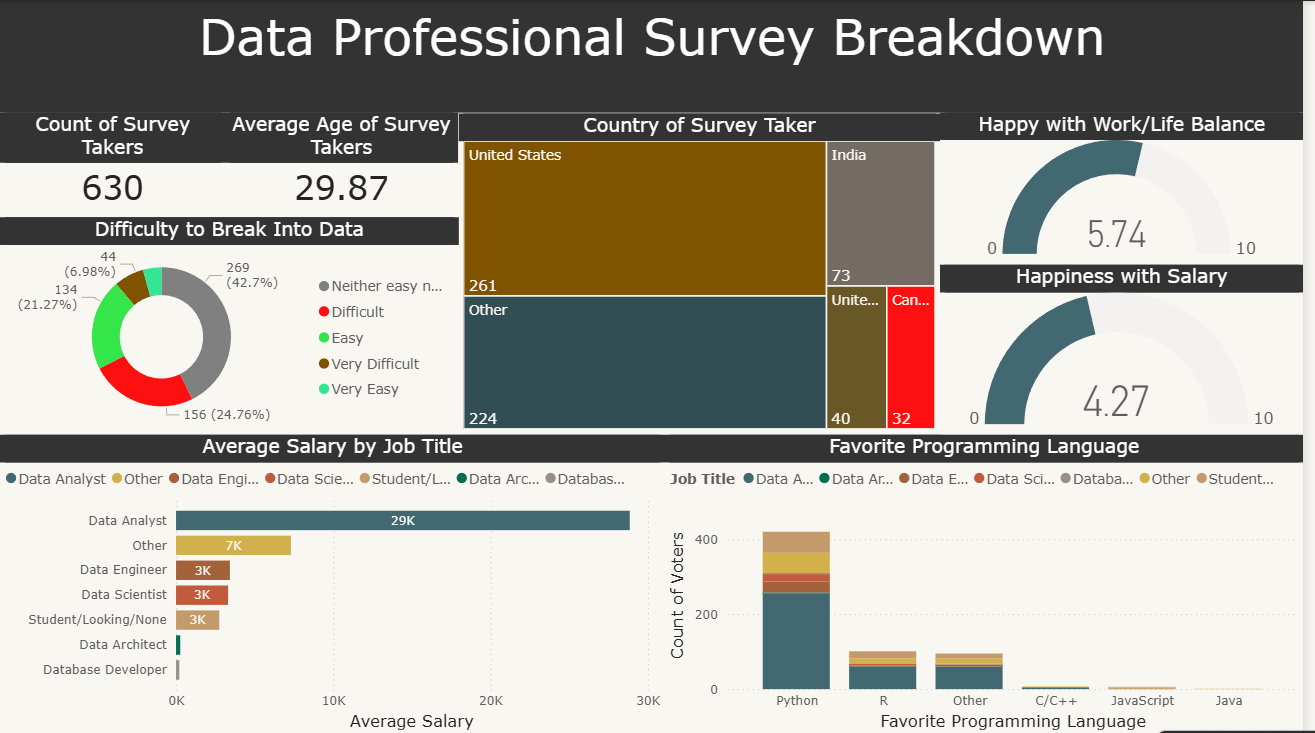

Layout of this report page (visuals, bound fields, positions):
{"tool":"powerbi","page":{"name":"Survey Dashboard","canvas":[1280,720],"ordinal":0},"visuals":[{"type":"textbox","box":[0,0,1280,109.5],"z":0},{"type":"card","title":"Count of Survey Takers","fields":{"Values":["CountNonNull(Data Professional Survey.Unique ID)"]},"box":[0,109.5,221.4,103.2],"z":1000},{"type":"card","title":"Average Age of Survey Takers","fields":{"Values":["Avg(Data Professional Survey.Q10 - Current Age)"]},"box":[221.4,109.5,228.9,103.2],"z":2000},{"type":"barChart","title":"Average Salary by Job Title","fields":{"Category":["Data Professional Survey.Q1 - Which Title Best Fits your Current Role?.1"],"Y":["Sum(Data Professional Survey.Average Salary)"],"Series":["Data Professional Survey.Q1 - Which Title Best Fits your Current Role?.1"]},"box":[0,425.4,653.1,294.8],"z":3000},{"type":"columnChart","title":"Favorite Programming Language","fields":{"Category":["Data Professional Survey.Q5 - Favorite Programming Language.1"],"Y":["CountNonNull(Data Professional Survey.Unique ID)"],"Series":["Data Professional Survey.Q1 - Which Title Best Fits your Current Role?.1"]},"box":[653.1,425.4,627,294.8],"z":4000},{"type":"treemap","title":"Country of Survey Taker","fields":{"Group":["Data Professional Survey.Q11 - Which Country do you live in?.1"],"Values":["CountNonNull(Data Professional Survey.Q11 - Which Country do you live in?.1)"]},"box":[450.3,110.7,472.7,314.7],"z":5000},{"type":"gauge","title":"Happy with Work/Life Balance","fields":{"Y":["Avg(Data Professional Survey.Q6 - How Happy are you in your Current Position with the following? (Work/Life Balance))"],"MinValue":["Min(Data Professional Survey.Q6 - How Happy are you in your Current Position with the following? (Work/Life Balance))1"],"MaxValue":["Max(Data Professional Survey.Q6 - How Happy are you in your Current Position with the following? (Work/Life Balance))2"]},"box":[923,109.5,357,149.3],"z":6000},{"type":"gauge","title":"Happiness with Salary","fields":{"Y":["Avg(Data Professional Survey.Q6 - How Happy are you in your Current Position with the following? (Salary))"],"MinValue":["Min(Data Professional Survey.Q6 - How Happy are you in your Current Position with the following? (Salary))1"],"MaxValue":["Max(Data Professional Survey.Q6 - How Happy are you in your Current Position with the following? (Salary))"]},"box":[923,258.7,357,166.7],"z":7000},{"type":"donutChart","title":"Difficulty to Break Into Data","fields":{"Category":["Data Professional Survey.Q7 - How difficult was it for you to break into Data?"],"Y":["CountNonNull(Data Professional Survey.Q7 - How difficult was it for you to break into Data?)"]},"box":[0,212.7,450.3,212.7],"z":8000}]}

Visuals, with their boxes in screenshot pixels (x1, y1, x2, y2), scaled from the page's 1280x720 canvas onto the 1315x733 screenshot:
textbox: 0, 0, 1314, 111
"Count of Survey Takers" card: 0, 111, 227, 217
"Average Age of Survey Takers" card: 227, 111, 463, 217
"Average Salary by Job Title" barChart: 0, 433, 671, 732
"Favorite Programming Language" columnChart: 671, 433, 1314, 732
"Country of Survey Taker" treemap: 463, 113, 948, 433
"Happy with Work/Life Balance" gauge: 948, 111, 1314, 263
"Happiness with Salary" gauge: 948, 263, 1314, 433
"Difficulty to Break Into Data" donutChart: 0, 217, 463, 433
